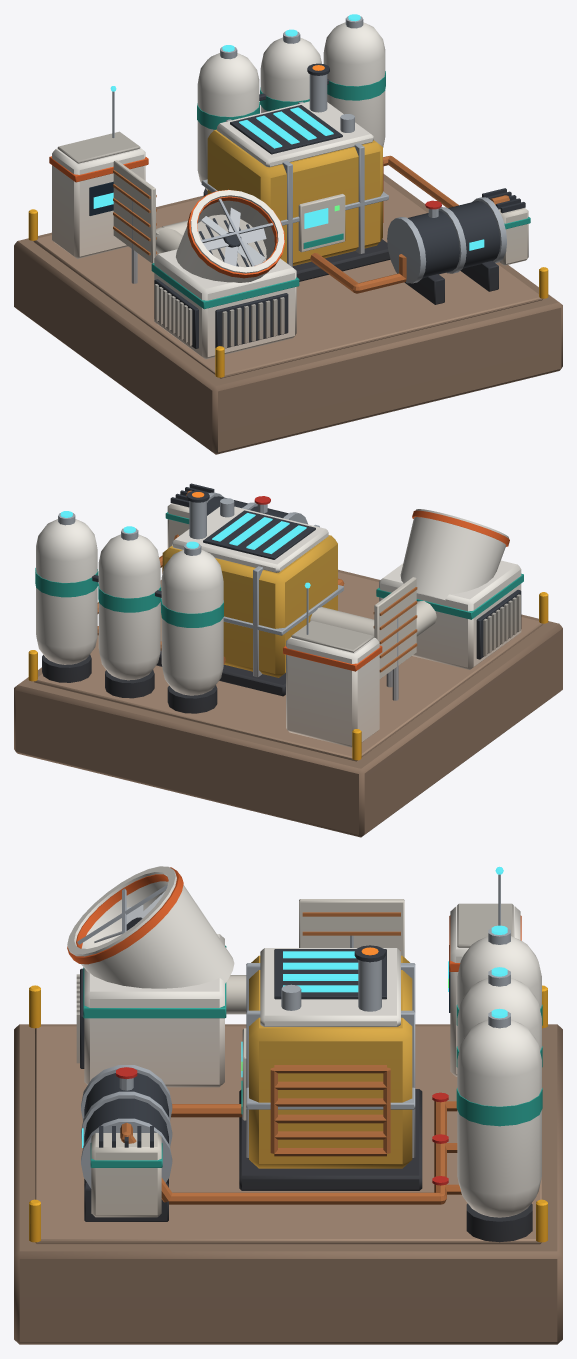
The model's file is moxie_unit.glb.
3 renders of one model, top to bottom at view 1: azimuth 30°, elevation 25°; view 2: azimuth 150°, elevation 25°; view 3: azimuth 270°, elevation 25°, orthographic. The views are drawn at different scales.
Visible parts, largest first — view 1: moxie_unit, spin_fan; view 2: moxie_unit; view 3: moxie_unit.
Boxes of the visible parts, box(x1,y1,x2,y2) form: moxie_unit: box(14, 14, 562, 454); spin_fan: box(201, 207, 266, 266); moxie_unit: box(14, 483, 562, 837); moxie_unit: box(14, 866, 562, 1344).
Size of the model in its own units: 3.9 by 2.51 by 3.9.
